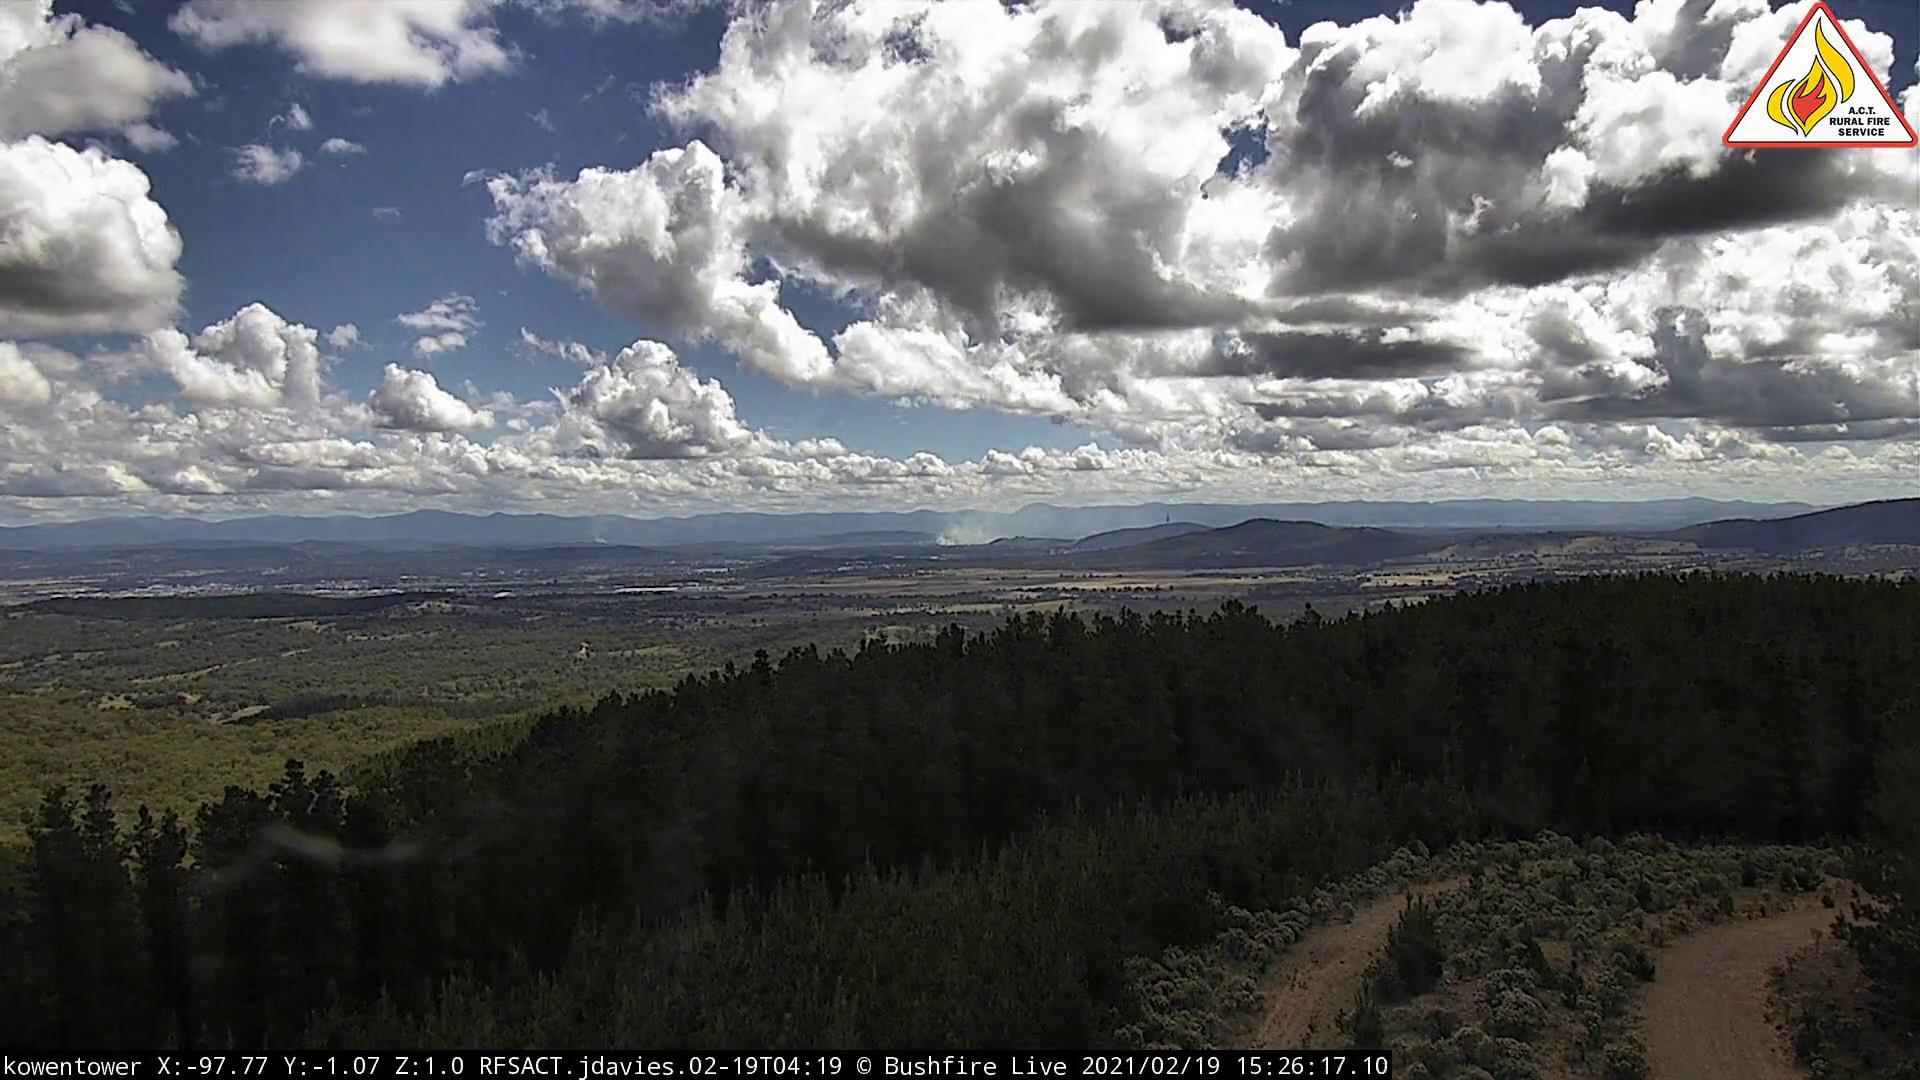Smoke: (936, 502, 1058, 550), (592, 526, 618, 551)
